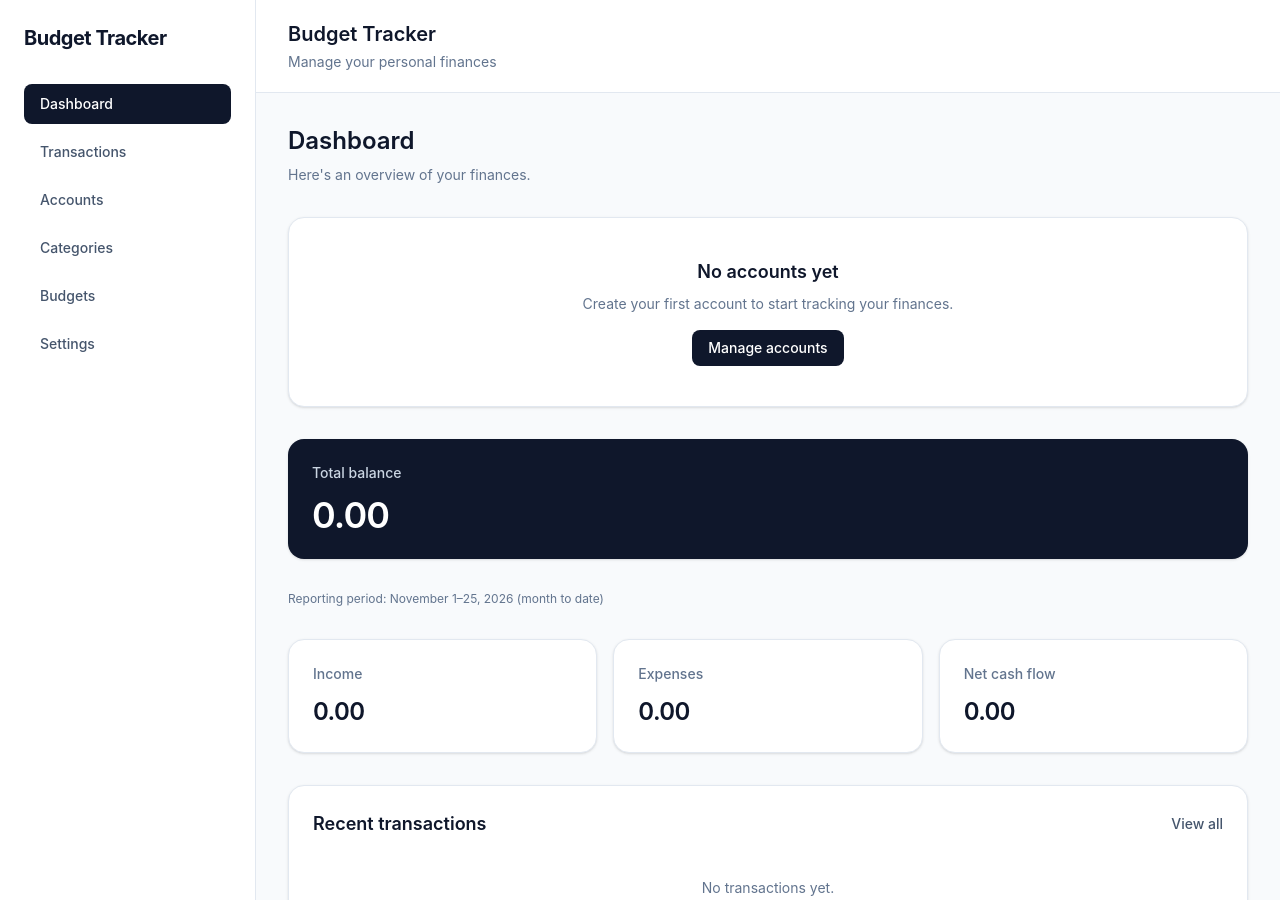
Test case: App › navigates to the Budgets page
Click the button "Budgets" at coordinates (128, 296), box [24,276,231,316]
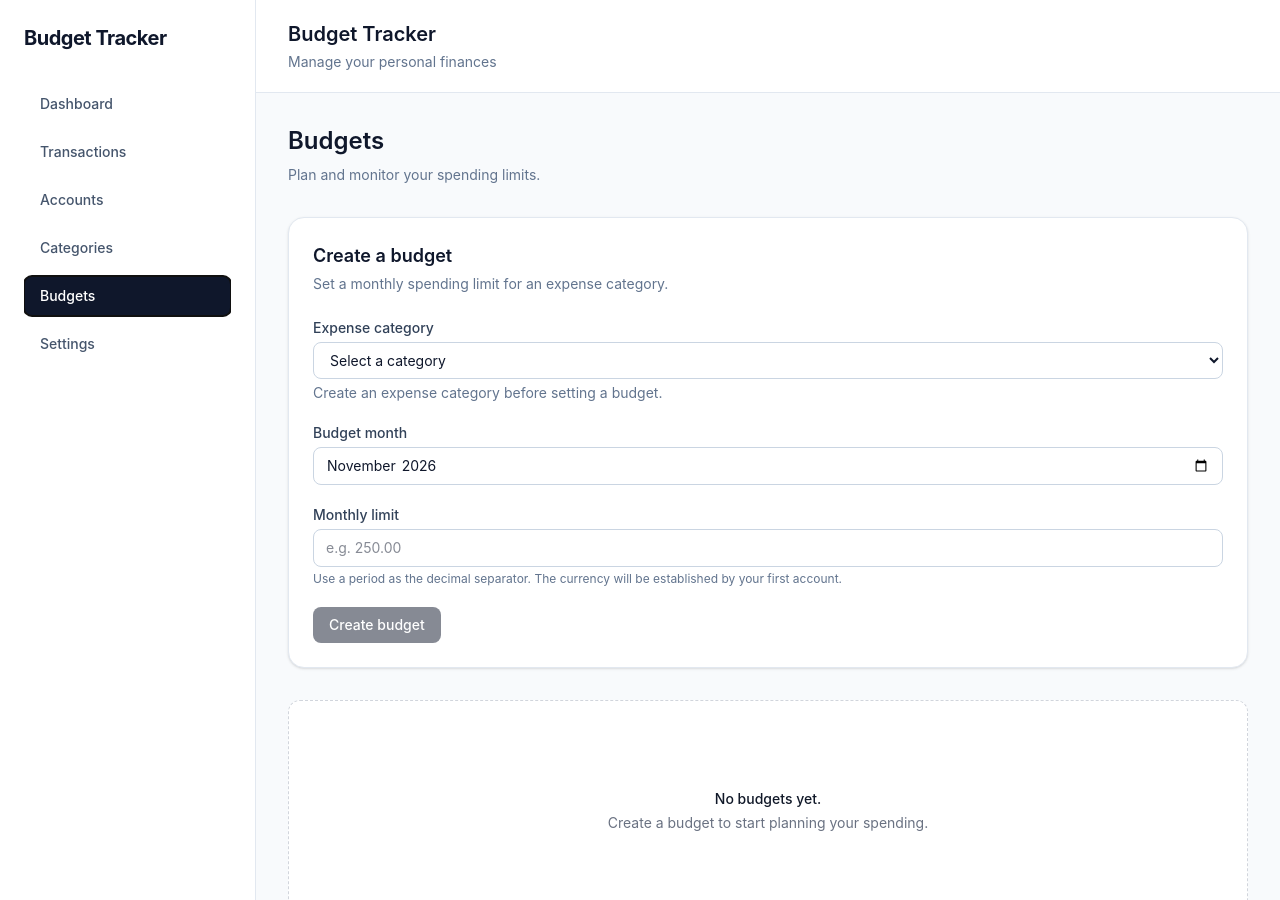
expect the heading "Budgets" is shown: met, box [288,126,384,155]
expect the text "No budgets yet." is shown: met, box [715,790,821,807]
